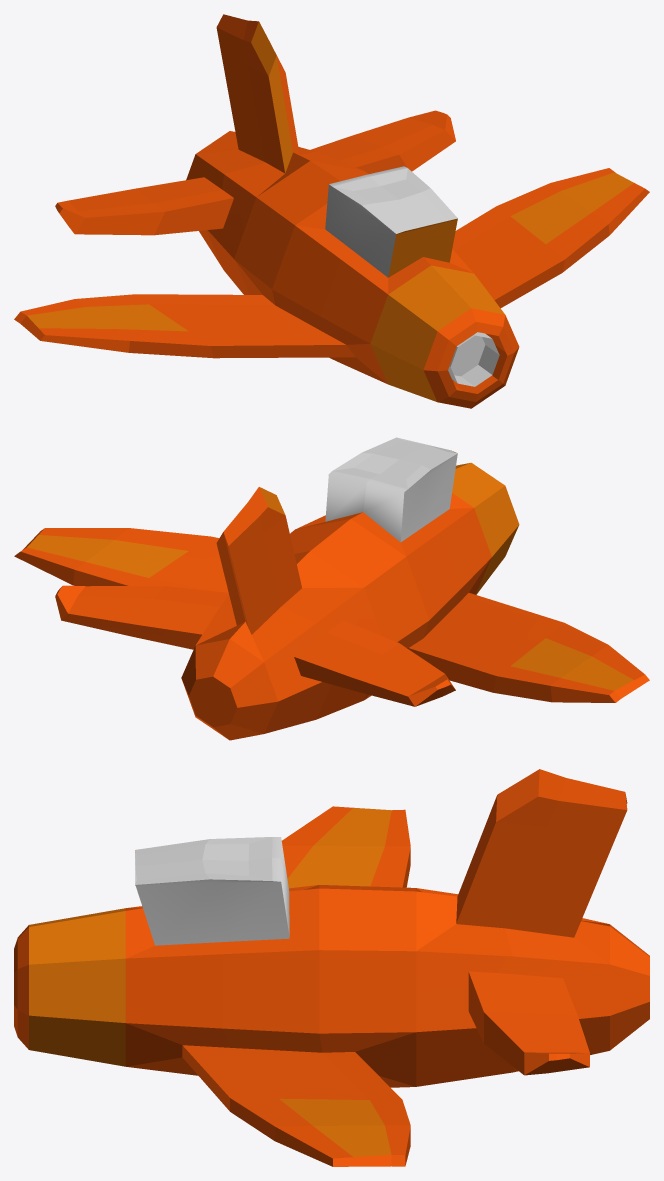
File: Level1_completedplane.fbx
The picture shows the model from 3 angles, top to bottom: view 1: azimuth 30°, elevation 25°; view 2: azimuth 150°, elevation 25°; view 3: azimuth 270°, elevation 25°; orthographic projection. The views are drawn at different scales.
Visible parts, largest first — view 1: Cylinder, Cylinder.001; view 2: Cylinder; view 3: Cylinder.
Part boxes in pixels (x1,y1,x2,y2): Cylinder: [14, 14, 649, 408]; Cylinder.001: [448, 332, 499, 386]; Cylinder: [14, 437, 649, 740]; Cylinder: [14, 769, 649, 1166].
Size of the model in its own units: 1003 by 415 by 753.
